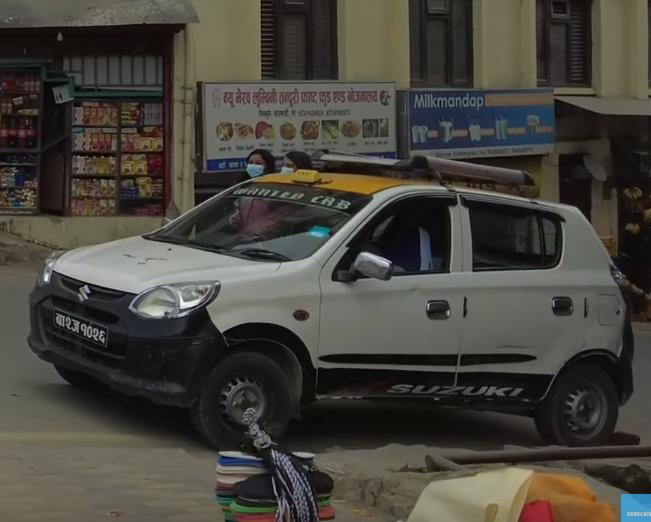taxi: (19, 138, 642, 458)
